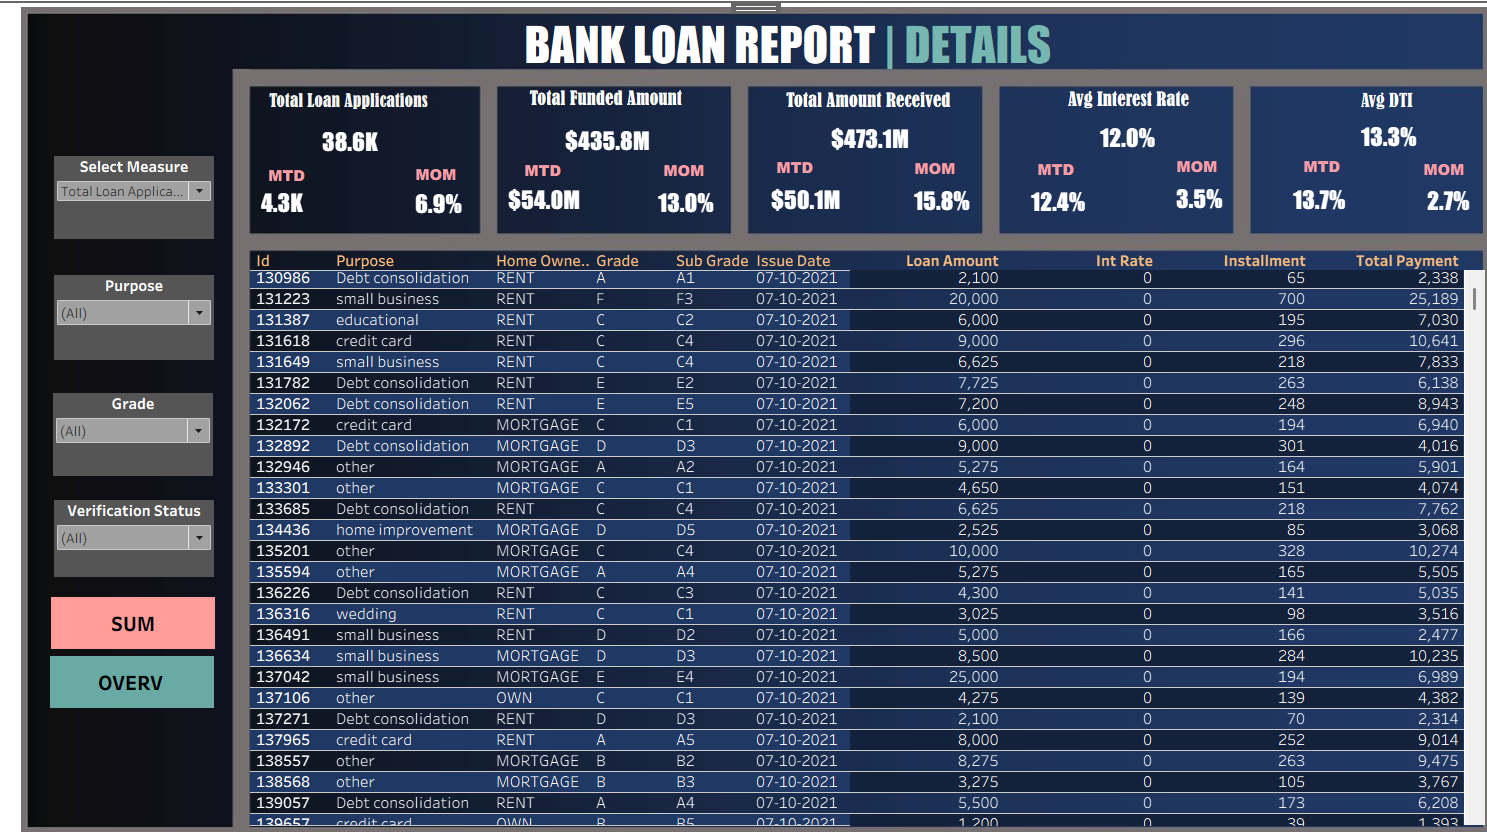

The page's visual inventory and layout, read from the dashboard file:
{"tool":"tableau","page":{"name":"DETAILS ","canvas":[1000,1000],"units":"permille","ordinal":0},"visuals":[{"type":"image","param":"C:/Users/Dell/OneDrive/Desktop/Bank Loan Project End to End/Tableau Background 3","box":[4.8,9.4,990.3,981.2]},{"type":"text","box":[358,28.2,370.5,59.9]},{"type":"worksheet","title":"Total Funded Amount ","mark":"Automatic","box":[337.9,104.6,144.8,92.8]},{"type":"worksheet","title":"Avg Interest Rate","mark":"Automatic","box":[651.4,105.8,146.7,82.3]},{"type":"worksheet","title":"Total Amount Received ","mark":"Automatic","box":[494.7,106.9,148,82.3]},{"type":"worksheet","title":"Avg DTI ","mark":"Automatic","box":[809.4,106.9,144.8,77.6]},{"type":"worksheet","title":"Total Loan Applications ","mark":"Automatic","box":[183.7,108.1,143,88.1]},{"type":"text","box":[751.4,183.3,32.6,35.2]},{"type":"text","box":[828.2,183.3,30.7,35.2]},{"type":"text","box":[509.7,184.5,32.6,35.2]},{"type":"text","box":[593.1,185.7,33.2,35.2]},{"type":"text","box":[667.5,186.8,29,35.2]},{"type":"text","box":[900.4,186.8,29.6,35.2]},{"type":"text","box":[358,188,34.5,35.2]},{"type":"text","box":[442,188,33.9,35.2]},{"type":"parameter","param":"[Parameters].[Parameter 1131445126987787]","box":[76,189.2,96.6,97.5]},{"type":"text","box":[196.7,192.7,39.2,38.8]},{"type":"text","box":[292.2,192.7,32.6,35.2]},{"type":"worksheet","title":"MoM Avg  DTI ","mark":"Automatic","box":[888.4,200.9,58.5,84.6]},{"type":"worksheet","title":"MOM Total Loan Application","mark":"Automatic","box":[284.6,205.6,47,81.1]},{"type":"worksheet","title":"MTD Avg  DTI","mark":"Automatic","box":[810,205.6,59.6,71.7]},{"type":"worksheet","title":"MoM Avg INT Rate ","mark":"Automatic","box":[746.5,206.8,42.2,67]},{"type":"worksheet","title":"MTD Total Amount Received ","mark":"Automatic","box":[495.3,211.5,69.6,59.9]},{"type":"worksheet","title":"MTD Total Funded Amount ","mark":"Automatic","box":[337.9,212.7,68.3,58.8]},{"type":"worksheet","title":"MTD Avg INT Rate ","mark":"Automatic","box":[650.2,213.9,64.6,61.1]},{"type":"worksheet","title":"MOM Total Amount Received","mark":"Automatic","box":[582.5,215,58.9,56.4]},{"type":"worksheet","title":"MTD Total Loan Applications","mark":"Automatic","box":[188.9,218.6,50.7,52.9]},{"type":"worksheet","title":"MOM Total Funded Amount","mark":"Automatic","box":[429.5,219.7,55.8,51.7]},{"type":"worksheet","title":"DETAILS TAB","mark":"Automatic","rows":["id","purpose","home_ownership","grade","sub_grade","issue_date"],"box":[194.3,299.7,745.3,676.9]},{"type":"filter","title":"Total Loan Applications ","param":"[federated.1vh7bvv0fgq3lf1e7kuf3095420h].[none:purpose:nk]","box":[76,329,96.6,99.9]},{"type":"filter","title":"Total Loan Applications ","param":"[federated.1vh7bvv0fgq3lf1e7kuf3095420h].[none:grade:nk]","box":[75.4,467.7,96.6,97.5]},{"type":"filter","title":"Total Loan Applications ","param":"[federated.1vh7bvv0fgq3lf1e7kuf3095420h].[none:verification_status:nk]","box":[76,593.4,96.6,90.5]},{"type":"dashboard-object","box":[74.2,707.4,99,61.1]},{"type":"dashboard-object","box":[73.6,776.7,99,61.1]}]}

Visuals, with their boxes on the dashboard's canvas, which has no fixed pixel size, in thousandths of its width and height (x1, y1, x2, y2). These are canvas units, not pixel positions in the 1487x832 screenshot, which may show the page scaled, cropped or inside an application window:
image: left=5, top=9, right=995, bottom=991
text: left=358, top=28, right=728, bottom=88
"Total Funded Amount " worksheet: left=338, top=105, right=483, bottom=197
"Avg Interest Rate" worksheet: left=651, top=106, right=798, bottom=188
"Total Amount Received " worksheet: left=495, top=107, right=643, bottom=189
"Avg DTI " worksheet: left=809, top=107, right=954, bottom=184
"Total Loan Applications " worksheet: left=184, top=108, right=327, bottom=196
text: left=751, top=183, right=784, bottom=218
text: left=828, top=183, right=859, bottom=218
text: left=510, top=184, right=542, bottom=220
text: left=593, top=186, right=626, bottom=221
text: left=668, top=187, right=696, bottom=222
text: left=900, top=187, right=930, bottom=222
text: left=358, top=188, right=392, bottom=223
text: left=442, top=188, right=476, bottom=223
parameter: left=76, top=189, right=173, bottom=287
text: left=197, top=193, right=236, bottom=232
text: left=292, top=193, right=325, bottom=228
"MoM Avg  DTI " worksheet: left=888, top=201, right=947, bottom=286
"MOM Total Loan Application" worksheet: left=285, top=206, right=332, bottom=287
"MTD Avg  DTI" worksheet: left=810, top=206, right=870, bottom=277
"MoM Avg INT Rate " worksheet: left=746, top=207, right=789, bottom=274
"MTD Total Amount Received " worksheet: left=495, top=212, right=565, bottom=271
"MTD Total Funded Amount " worksheet: left=338, top=213, right=406, bottom=272
"MTD Avg INT Rate " worksheet: left=650, top=214, right=715, bottom=275
"MOM Total Amount Received" worksheet: left=582, top=215, right=641, bottom=271
"MTD Total Loan Applications" worksheet: left=189, top=219, right=240, bottom=272
"MOM Total Funded Amount" worksheet: left=430, top=220, right=485, bottom=271
"DETAILS TAB" worksheet: left=194, top=300, right=940, bottom=977
"Total Loan Applications " filter: left=76, top=329, right=173, bottom=429
"Total Loan Applications " filter: left=75, top=468, right=172, bottom=565
"Total Loan Applications " filter: left=76, top=593, right=173, bottom=684
dashboard-object: left=74, top=707, right=173, bottom=768
dashboard-object: left=74, top=777, right=173, bottom=838
